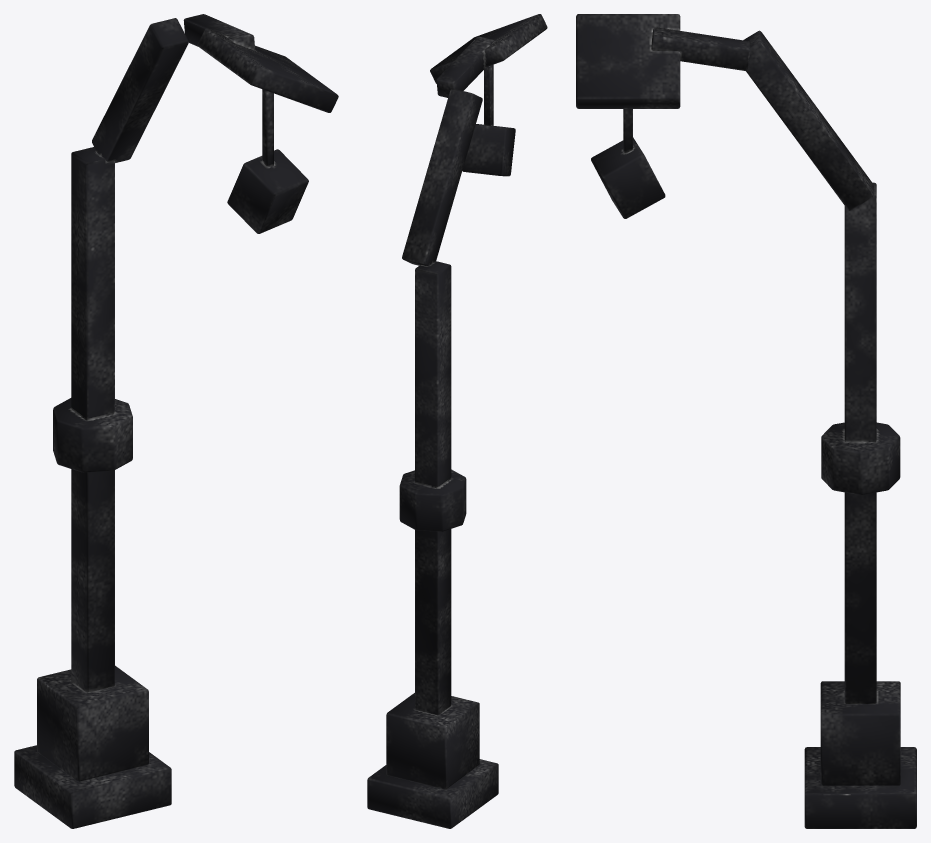
File: Farola_Rota.fbx
3 views of the same model, side by side, from view 1: azimuth 30°, elevation 25°; view 2: azimuth 150°, elevation 25°; view 3: azimuth 270°, elevation 25° (orthographic). The views are drawn at different scales.
Parts seen in each view (by area): view 1: Farola_Rota; view 2: Farola_Rota; view 3: Farola_Rota.
Part boxes in pixels (bbox=[...]): Farola_Rota: bbox=[14, 14, 338, 828]; Farola_Rota: bbox=[367, 14, 547, 828]; Farola_Rota: bbox=[576, 14, 916, 828].
Size of the model in its own units: 2.06 by 11.02 by 4.25.
